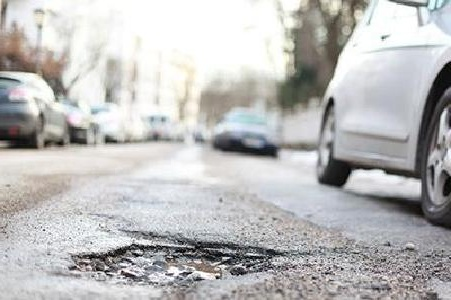pothole: (67, 225, 281, 288)
